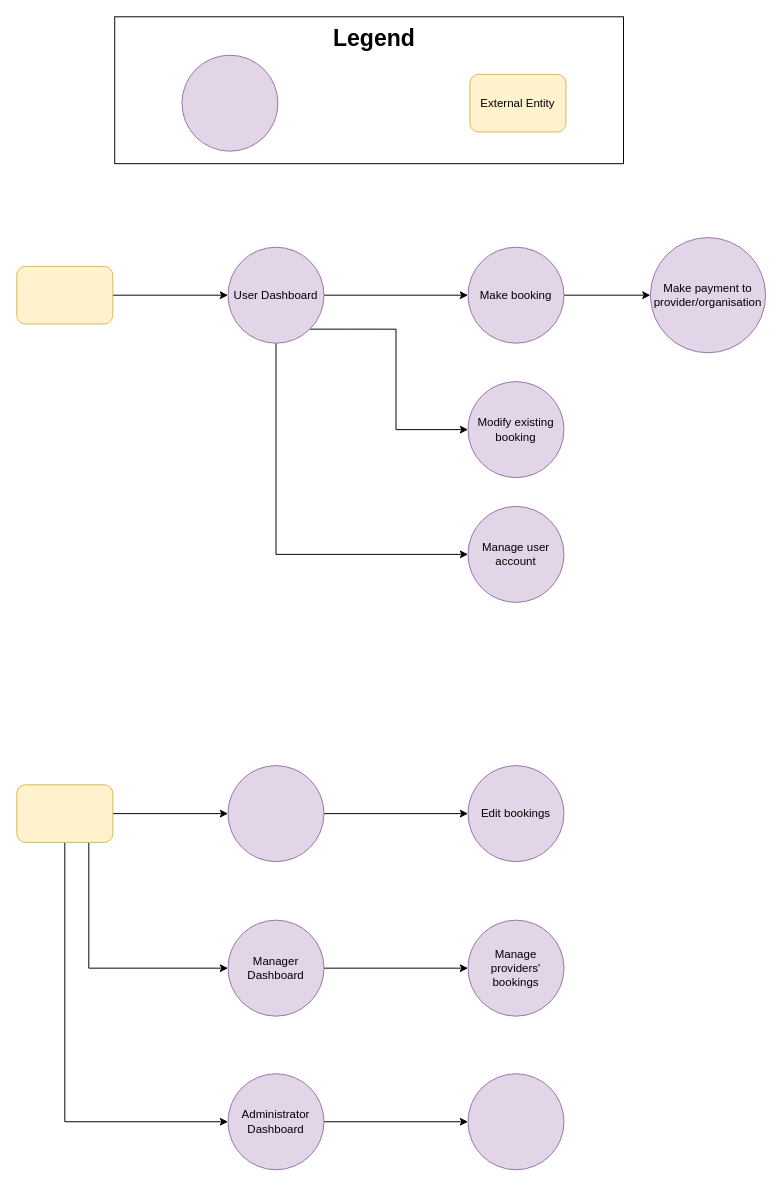
The diagram is 782 pixels wide and 1187 high, and some of its shapes have lost their labels. The centre of each missing label's shape, as x and y in pixels:
Manage organisation: point 515,1121
Process: point 229,102
Provider: point 64,813
Provider Dashboard: point 275,813
User: point 64,294
